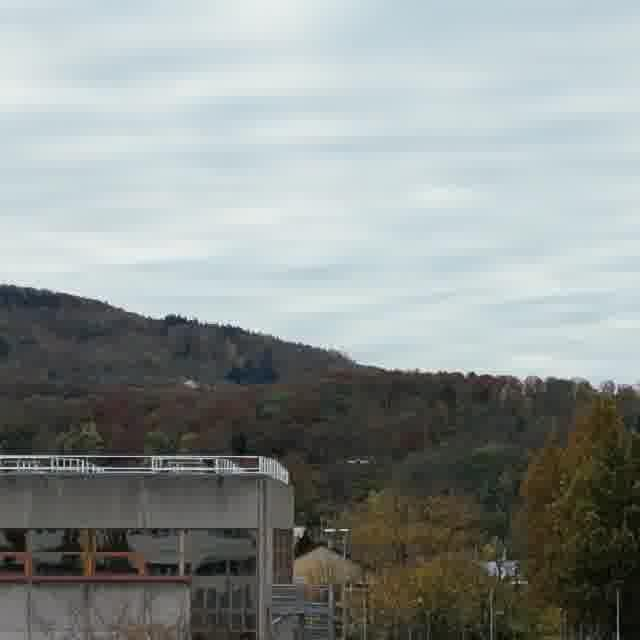Drohne: (348, 458, 369, 463)
